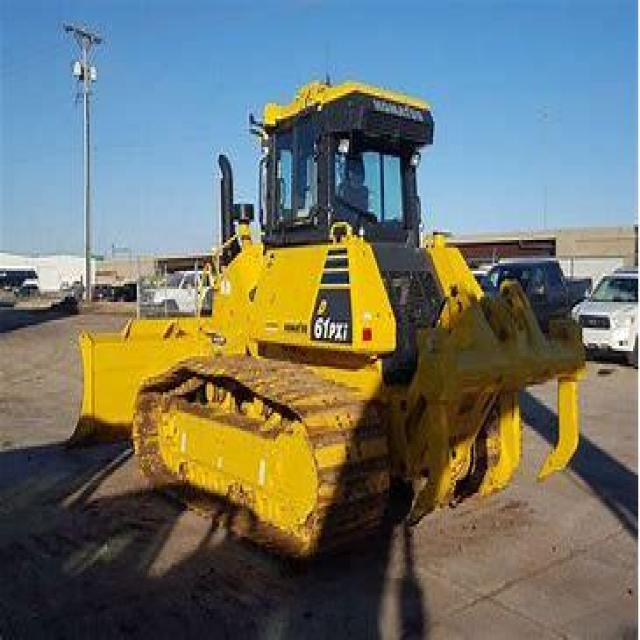buldozerpayloadergrader: (58, 57, 591, 568)
